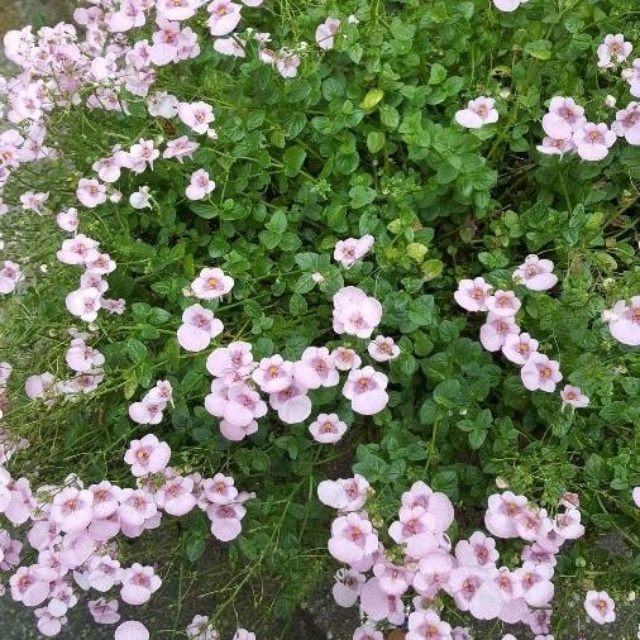obstacle: (48, 75, 610, 620), (147, 249, 387, 453), (212, 91, 450, 234)
